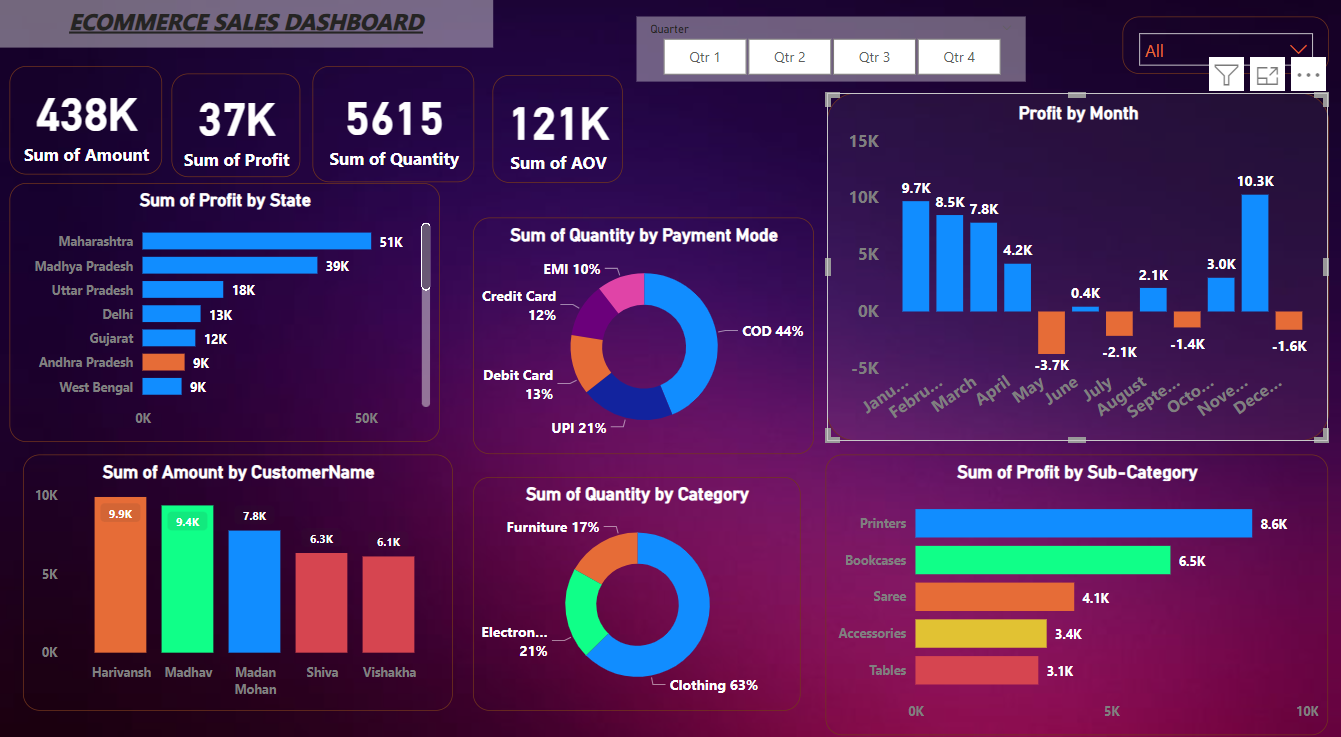

Layout of this report page (visuals, bound fields, positions):
{"tool":"powerbi","page":{"name":"Page 1","canvas":[1280,720],"ordinal":0},"visuals":[{"type":"textbox","box":[0,0,470.5,45.4],"z":0},{"type":"barChart","title":" Sum of Profit by Sub-Category","fields":{"Category":["Details.Sub-Category"],"Y":["Details.Profit"]},"box":[787.5,432.6,478.6,267.3],"z":1000},{"type":"donutChart","title":"Sum of Quantity by Category","fields":{"Category":["Details.Category"],"Y":["Details.Quantity"]},"box":[451.3,454.1,311.9,222.8],"z":2000},{"type":"donutChart","title":"Sum of Quantity by Payment Mode ","fields":{"Category":["Details.PaymentMode"],"Y":["Details.Quantity"]},"box":[451.3,206.9,324.8,225.6],"z":3000},{"type":"card","fields":{"Values":["Details.Amount"]},"box":[10.1,63.2,145.1,103.5],"z":4000},{"type":"card","fields":{"Values":["Details.Profit"]},"box":[164.9,69.6,122.6,98.3],"z":5000},{"type":"card","fields":{"Values":["Details.Quantity"]},"box":[298.1,63.5,154.3,110.4],"z":6000},{"type":"card","fields":{"Values":["Details.AOV"]},"box":[470.5,71.1,124.1,102.9],"z":7000},{"type":"barChart","title":" Sum of Profit by State","fields":{"Y":["Details.Amount"],"Category":["Orders.State"]},"box":[10.6,174,410,246.6],"z":8000},{"type":"columnChart","fields":{"Category":["Orders.CustomerName"],"Y":["Details.Amount"]},"box":[23,432.6,409.6,244.3],"z":9000},{"type":"slicer","fields":{"Values":["Orders.Order Date.Variation.Date Hierarchy.Quarter"]},"box":[606.7,15.1,370.7,62],"z":10000},{"type":"slicer","fields":{"Values":["Orders.State"]},"box":[1069.7,15.1,196.7,54.5],"z":11000},{"type":"columnChart","title":"Profit by Month","fields":{"Category":["Orders.Order Date.Variation.Date Hierarchy.Month"],"Y":["Details.Profit"]},"box":[788.3,89.3,478.1,331.3],"z":12000}]}

Visuals, with their boxes in screenshot pixels (x1, y1, x2, y2), scaled from the page's 1280x720 canvas onto the 1341x737 screenshot:
textbox: left=0, top=0, right=493, bottom=46
" Sum of Profit by Sub-Category" barChart: left=825, top=443, right=1326, bottom=716
"Sum of Quantity by Category" donutChart: left=473, top=465, right=800, bottom=693
"Sum of Quantity by Payment Mode " donutChart: left=473, top=212, right=813, bottom=443
card - Details.Amount: left=11, top=65, right=163, bottom=171
card - Details.Profit: left=173, top=71, right=301, bottom=172
card - Details.Quantity: left=312, top=65, right=474, bottom=178
card - Details.AOV: left=493, top=73, right=623, bottom=178
" Sum of Profit by State" barChart: left=11, top=178, right=441, bottom=431
columnChart - Orders.CustomerName x Details.Amount: left=24, top=443, right=453, bottom=693
slicer - Orders.Order Date.Variation.Date Hierarchy.Quarter: left=636, top=15, right=1024, bottom=79
slicer - Orders.State: left=1121, top=15, right=1327, bottom=71
"Profit by Month" columnChart: left=826, top=91, right=1327, bottom=431
